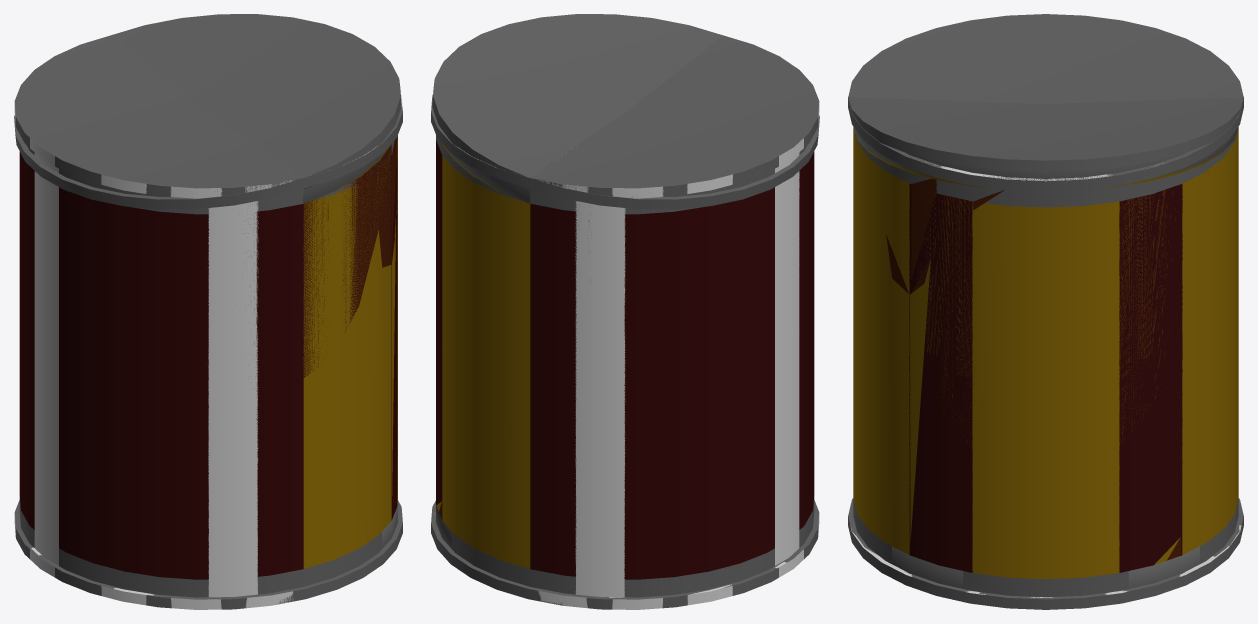
The model's file is UpdatedCans.fbx.
The picture shows the model from 3 angles, left to right: view 1: azimuth 30°, elevation 25°; view 2: azimuth 150°, elevation 25°; view 3: azimuth 270°, elevation 25°; orthographic projection.
Parts seen in each view (by area): view 1: SM_Can_Beans2, SM_Can_Hoops, SM_Can_Crushed, SM_Can_NoLabel, SM_Can_Sauce, SM_Can_Beans; view 2: SM_Can_Beans2, SM_Can_Hoops, SM_Can_Crushed, SM_Can_NoLabel, SM_Can_Sauce, SM_Can_Beans; view 3: SM_Can_Hoops, SM_Can_Beans2, SM_Can_Crushed, SM_Can_Sauce, SM_Can_NoLabel.
Boxes of the visible parts, x1,y1,x2,y2 form: SM_Can_Beans2: (15, 69, 402, 609); SM_Can_Hoops: (14, 35, 402, 599); SM_Can_Crushed: (14, 14, 401, 596); SM_Can_NoLabel: (14, 95, 402, 609); SM_Can_Sauce: (14, 36, 402, 598); SM_Can_Beans: (15, 156, 402, 604); SM_Can_Beans2: (431, 44, 818, 609); SM_Can_Hoops: (431, 35, 819, 599); SM_Can_Crushed: (432, 14, 819, 599); SM_Can_NoLabel: (435, 103, 819, 609); SM_Can_Sauce: (433, 36, 819, 598); SM_Can_Beans: (431, 132, 818, 605); SM_Can_Hoops: (848, 14, 1243, 604); SM_Can_Beans2: (848, 28, 1243, 604); SM_Can_Crushed: (848, 97, 1243, 609); SM_Can_Sauce: (848, 14, 1243, 599); SM_Can_NoLabel: (850, 161, 1241, 597).
Bounding box in the file's own units: 11.06 × 13.8 × 11.04.
